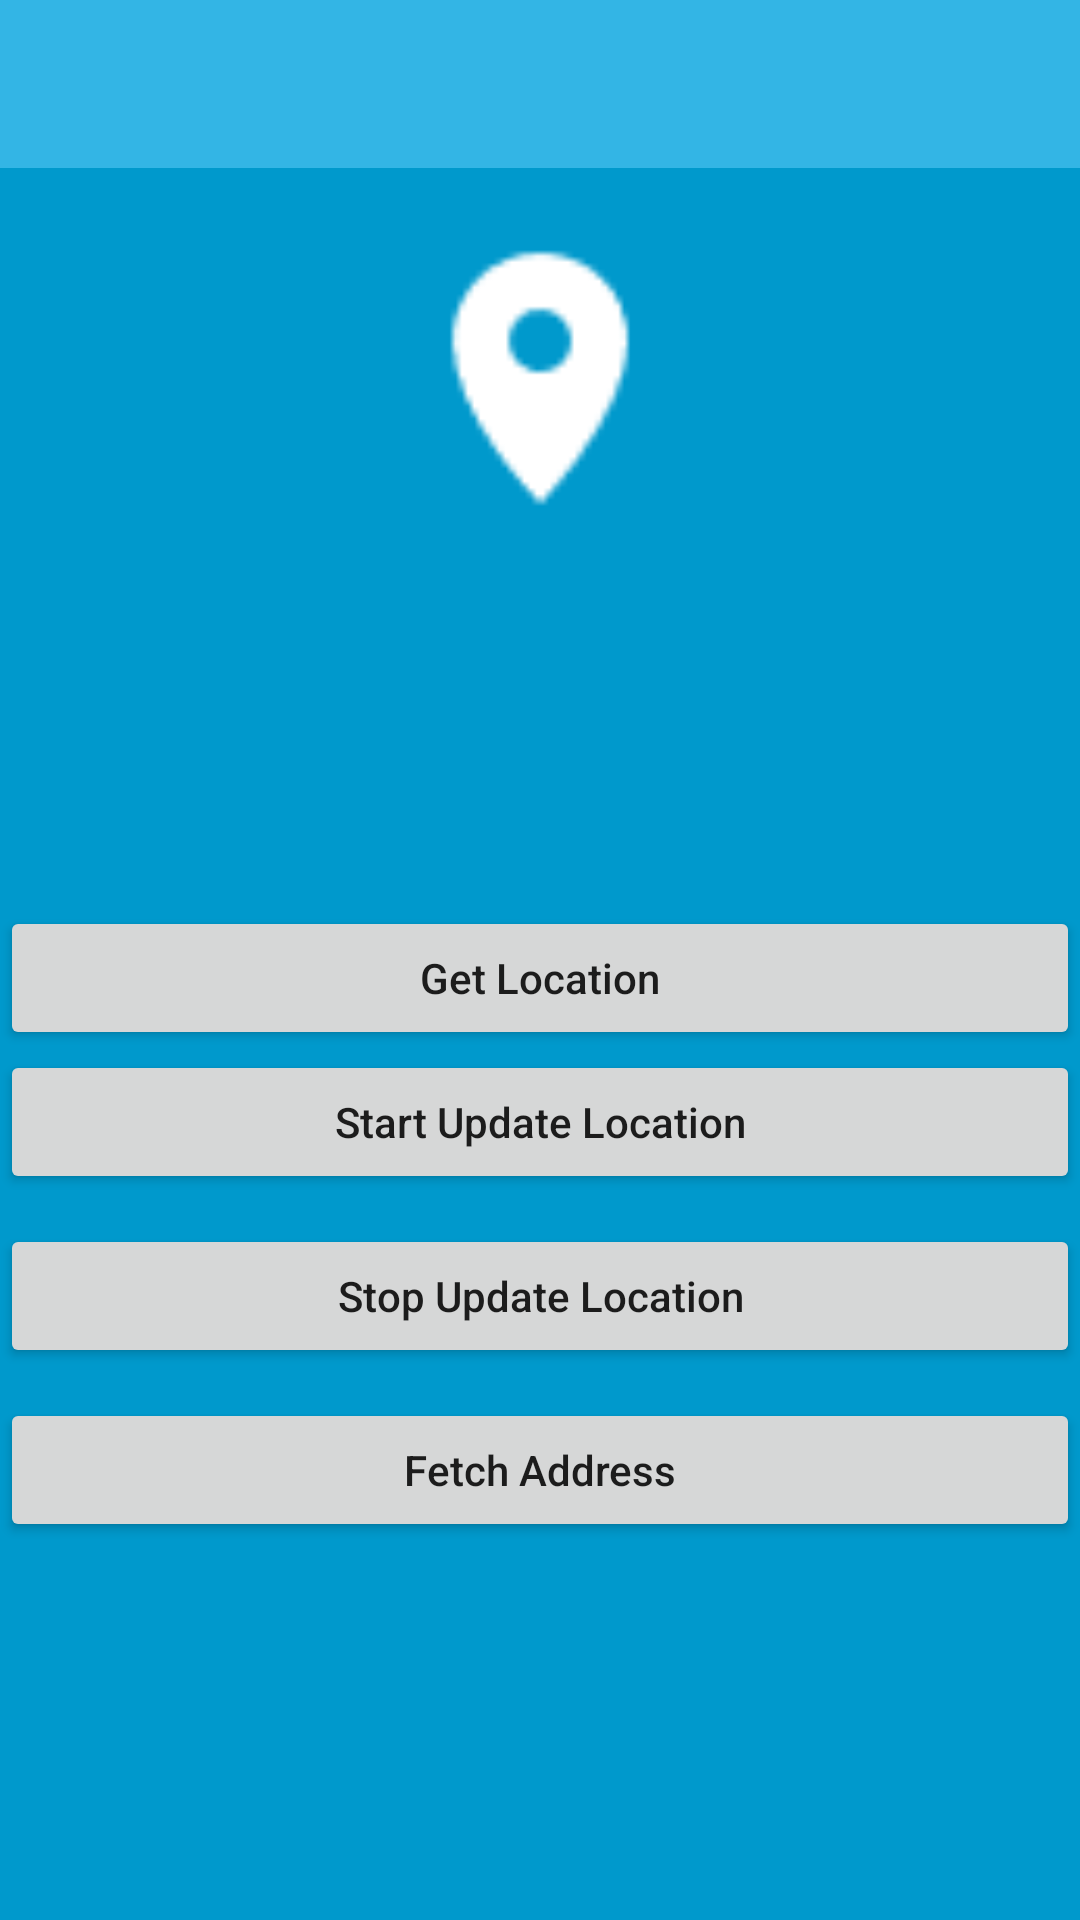

Where icons sit on this 1080w x 1920h app screen, as Rect(x1, y1, x2, y2):
location: Rect(450, 251, 630, 505)
